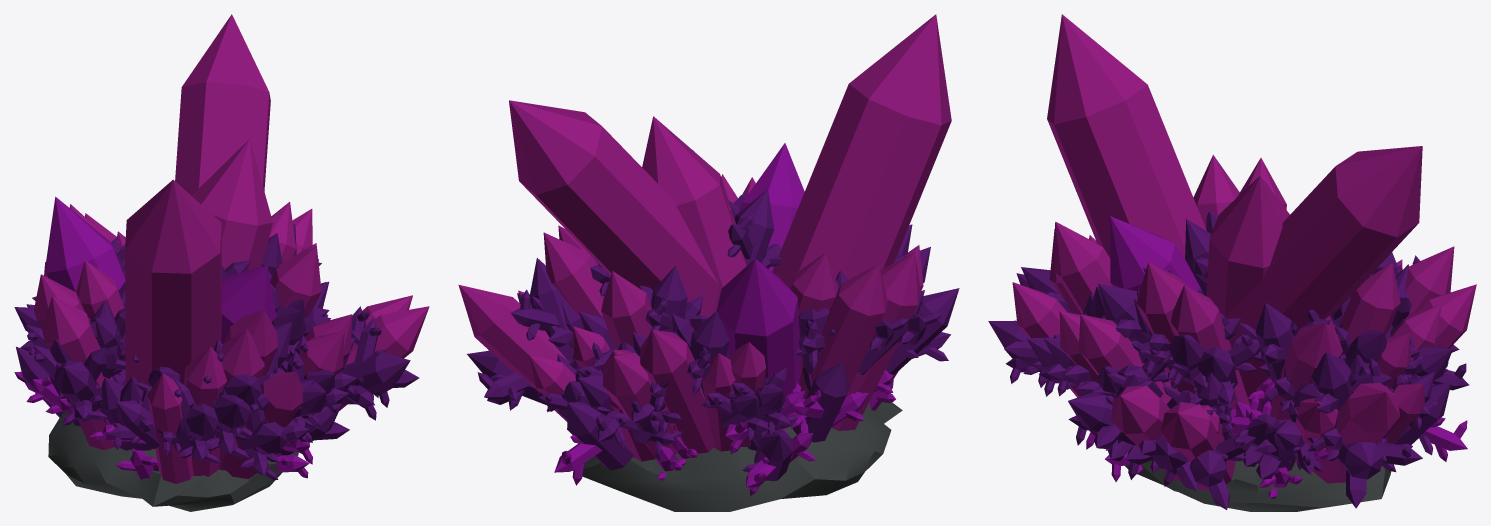
Rendered from Crystal3.fbx.
The picture shows the model from 3 angles, left to right: view 1: azimuth 30°, elevation 25°; view 2: azimuth 150°, elevation 25°; view 3: azimuth 270°, elevation 25°; orthographic projection. The views are drawn at different scales.
Visible parts, largest first — view 1: Cylinder.032, Cylinder.036, rock.008, rock.008|Cylinder.025|Dupli|53, Cylinder.033, rock.008|Cylinder.025|Dupli|45, rock.008|Cylinder.031|Dupli|40, rock.008|Cylinder.025|Dupli|26, Cylinder.035, rock.008|Cylinder.025|Dupli|55, rock.008|Cylinder.025|Dupli|20, rock.008|Cylinder.025|Dupli|15 (+16 smaller); view 2: Cylinder.032, Cylinder.036, rock.008, rock.008|Cylinder.025|Dupli|47, rock.008|Cylinder.025|Dupli|24, Cylinder.033, rock.008|Cylinder.025|Dupli|50, Cylinder.035, rock.008|Cylinder.025|Dupli|53, rock.008|Cylinder.025|Dupli|34, rock.008|Cylinder.025|Dupli|2, rock.008|Cylinder.025|Dupli|31 (+13 smaller); view 3: Cylinder.032, Cylinder.036, rock.008|Cylinder.025|Dupli|47, Cylinder.033, rock.008|Cylinder.025|Dupli|45, rock.008|Cylinder.025|Dupli|15, rock.008|Cylinder.025|Dupli|31, rock.008|Cylinder.025|Dupli|44, rock.008|Cylinder.025|Dupli|8, rock.008, rock.008|Cylinder.025|Dupli|42, rock.008|Cylinder.025|Dupli|34 (+19 smaller).
Part boxes in pixels (x1,y1,x2,y2): Cylinder.032: (125,179,221,448); Cylinder.036: (175,14,270,195); rock.008: (48,411,298,511); rock.008|Cylinder.025|Dupli|53: (33,296,125,450); Cylinder.033: (192,139,272,270); rock.008|Cylinder.025|Dupli|45: (335,306,429,420); rock.008|Cylinder.031|Dupli|40: (107,373,213,483); rock.008|Cylinder.025|Dupli|26: (221,367,314,479); Cylinder.035: (45,196,125,292); rock.008|Cylinder.025|Dupli|55: (174,346,246,476); rock.008|Cylinder.025|Dupli|20: (203,329,284,470); rock.008|Cylinder.025|Dupli|15: (271,246,330,372); Cylinder.032: (772,14,951,288); Cylinder.036: (509,100,718,329); rock.008: (573,402,902,511); rock.008|Cylinder.025|Dupli|47: (458,258,573,421); rock.008|Cylinder.025|Dupli|24: (796,264,924,399); Cylinder.033: (642,116,747,327); rock.008|Cylinder.025|Dupli|50: (631,311,729,453); Cylinder.035: (716,259,800,429); rock.008|Cylinder.025|Dupli|53: (829,252,959,430); rock.008|Cylinder.025|Dupli|34: (568,266,707,370); rock.008|Cylinder.025|Dupli|2: (575,331,679,456); rock.008|Cylinder.025|Dupli|31: (543,232,610,348); Cylinder.032: (1047,14,1206,257); Cylinder.036: (1225,146,1422,397); rock.008|Cylinder.025|Dupli|47: (1286,352,1422,508); Cylinder.033: (1206,176,1289,401); rock.008|Cylinder.025|Dupli|45: (1068,373,1213,491); rock.008|Cylinder.025|Dupli|15: (1098,262,1240,393); rock.008|Cylinder.025|Dupli|31: (1231,302,1342,442); rock.008|Cylinder.025|Dupli|44: (1134,285,1260,409); rock.008|Cylinder.025|Dupli|8: (1118,386,1256,509); rock.008: (1125,401,1391,511); rock.008|Cylinder.025|Dupli|42: (1043,314,1171,403); rock.008|Cylinder.025|Dupli|34: (1331,262,1419,375).
Bounding box in the file's own units: 443 × 439 × 475.
